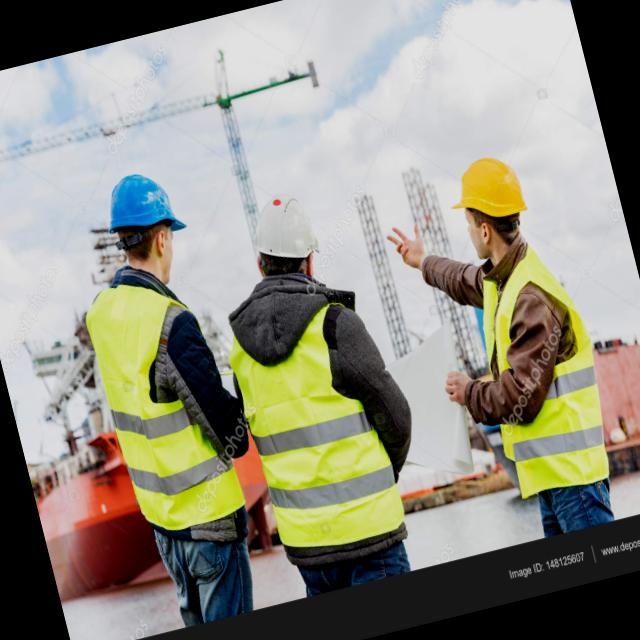helmet: (430, 126, 540, 261), (86, 152, 192, 268), (228, 175, 332, 292)
vest: (219, 284, 420, 578), (70, 260, 256, 560), (460, 247, 626, 521)
